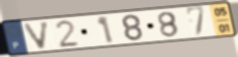1: (96, 15, 116, 46)
2: (54, 19, 82, 49)
7: (184, 5, 207, 39)
8: (156, 10, 182, 39), (120, 13, 145, 42)
V: (21, 20, 52, 51)
